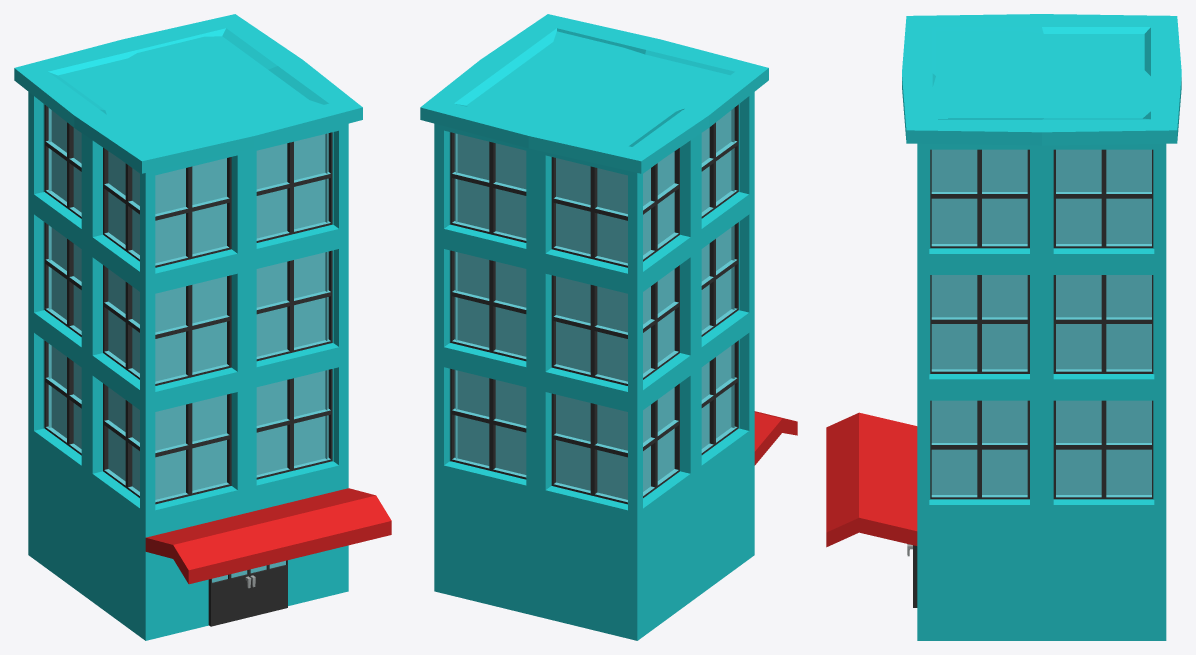
The model's file is Building blend LightBlue.fbx.
3 views of the same model, side by side, from view 1: azimuth 30°, elevation 25°; view 2: azimuth 150°, elevation 25°; view 3: azimuth 270°, elevation 25° (orthographic). The views are drawn at different scales.
Parts seen in each view (by area): view 1: Cube, Plane; view 2: Cube; view 3: Cube.
Boxes of the visible parts, <box> form: Cube: <box>14,14,391,640</box>; Plane: <box>208,560,287,626</box>; Cube: <box>420,14,797,640</box>; Cube: <box>826,14,1181,640</box>.
Bounding box in the file's own units: 1701 × 3454 × 2161.
